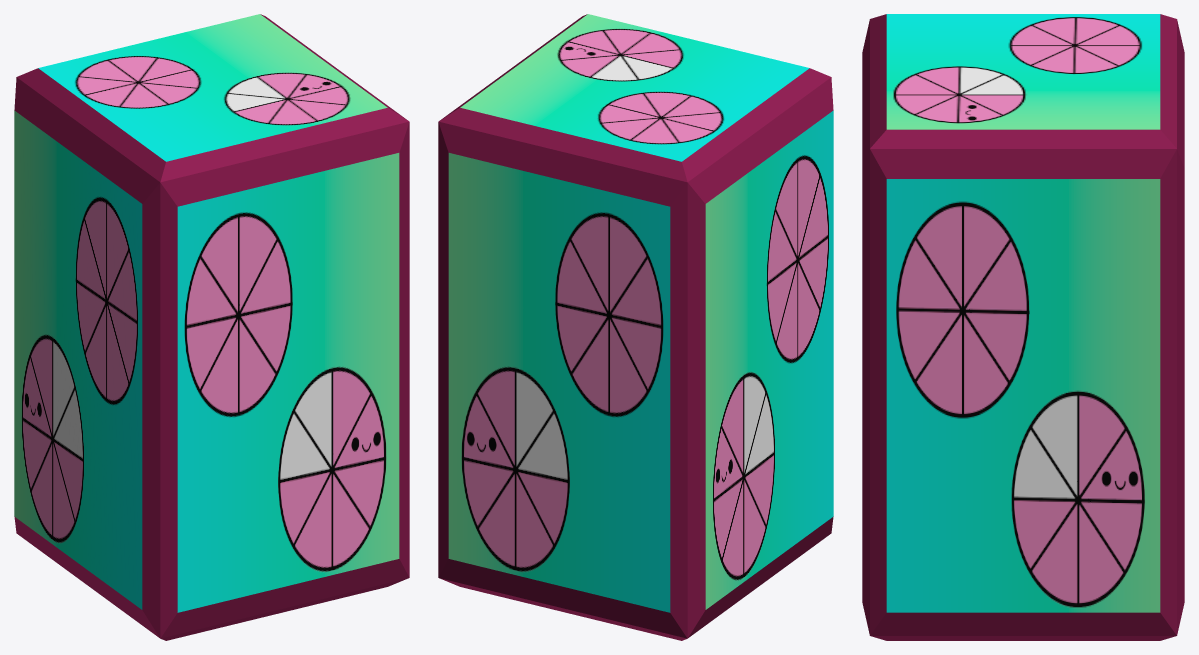
File: Fracciones siete cuartos.fbx
The picture shows the model from 3 angles, left to right: view 1: azimuth 30°, elevation 25°; view 2: azimuth 150°, elevation 25°; view 3: azimuth 270°, elevation 25°; orthographic projection. The views are drawn at different scales.
Parts seen in each view (by area): view 1: 7/4; view 2: 7/4; view 3: 7/4.
Part boxes in pixels (<box>): 7/4: <box>14,14,409,640</box>; 7/4: <box>438,14,833,640</box>; 7/4: <box>862,14,1184,640</box>.
Bounding box in the file's own units: 213 × 368 × 210.
2 materials, 1 textured.
